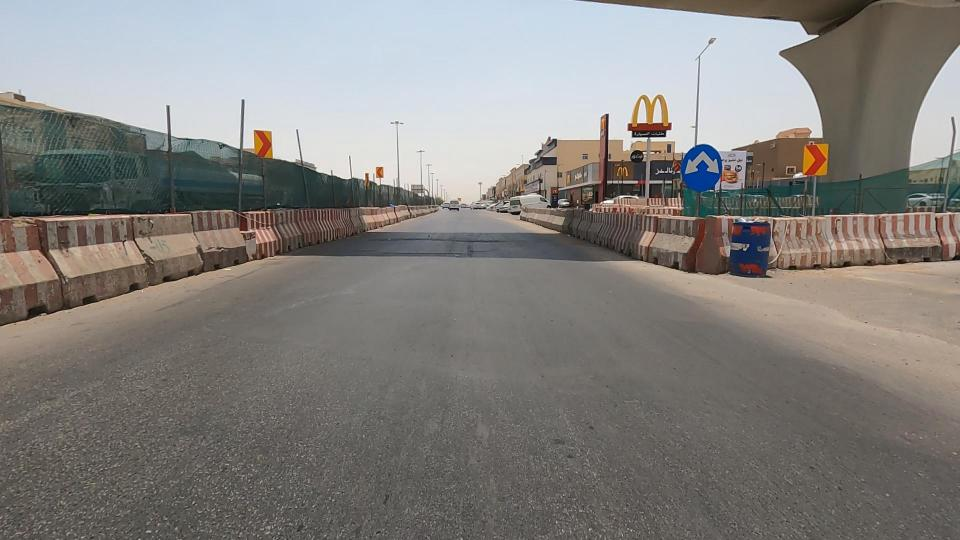CONSTRUCTION_ROAD: (0, 82, 397, 339), (604, 121, 960, 299), (548, 158, 774, 289), (225, 157, 447, 255)
